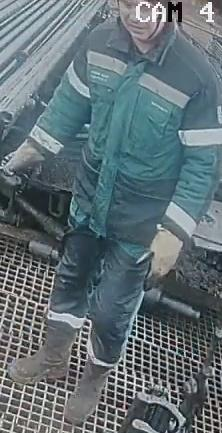gloves: (132, 223, 189, 291), (2, 137, 54, 186)
vest: (77, 27, 202, 244)
